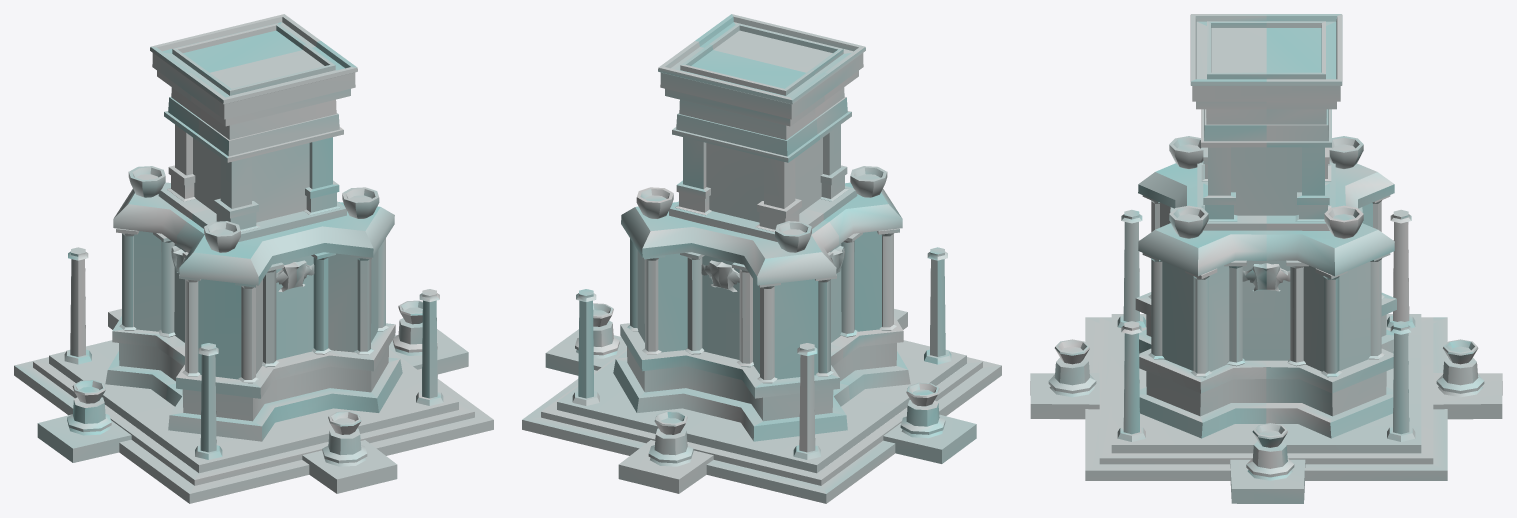
File: tower_bot_uv.fbx
3 views of the same model, side by side, from view 1: azimuth 30°, elevation 25°; view 2: azimuth 150°, elevation 25°; view 3: azimuth 270°, elevation 25° (orthographic). The views are drawn at different scales.
Visible parts, largest first — view 1: tower_bot; view 2: tower_bot; view 3: tower_bot.
Boxes of the visible parts, left/top/right/bottom form: tower_bot: left=14, top=14, right=493, bottom=503; tower_bot: left=522, top=14, right=1001, bottom=503; tower_bot: left=1030, top=14, right=1502, bottom=503.
Bounding box in the file's own units: 3.67 × 3.06 × 3.67.
